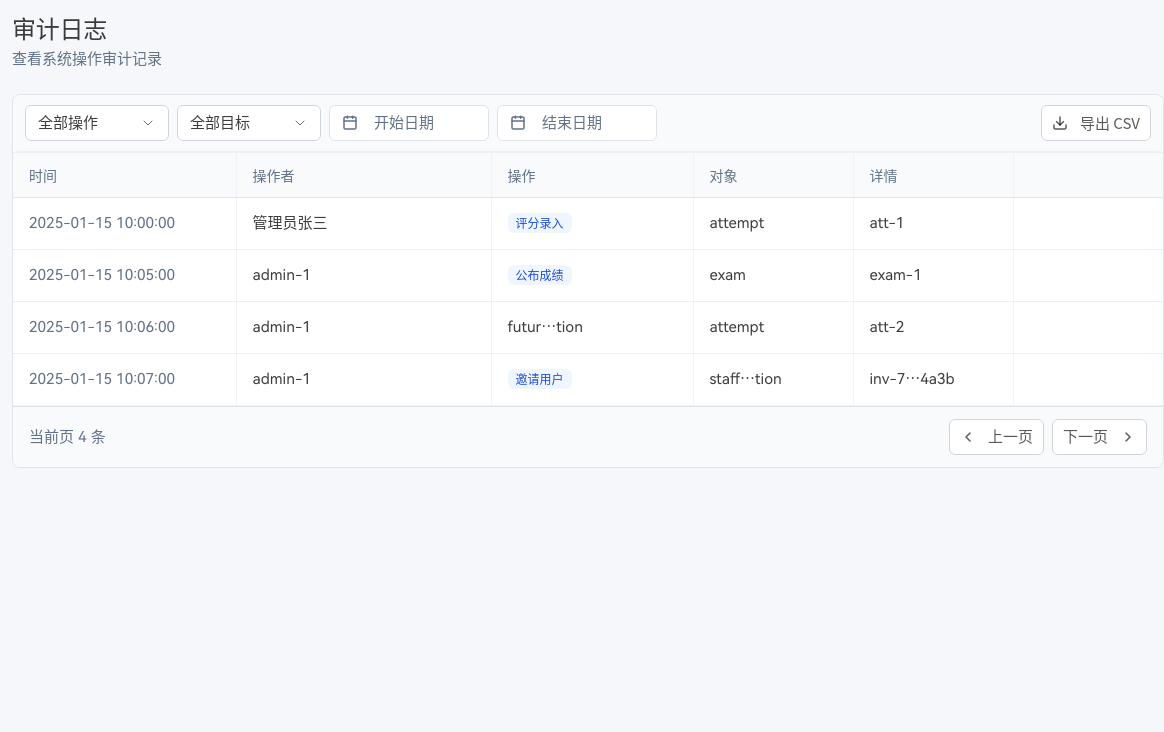
Test: AuditLogPage › expands metadata on row click
Expected: the text "评分录入" is shown, [508,213,572,233]
Step 1. Click the text "评分录入" → [588, 223], box [13,197,1163,249]
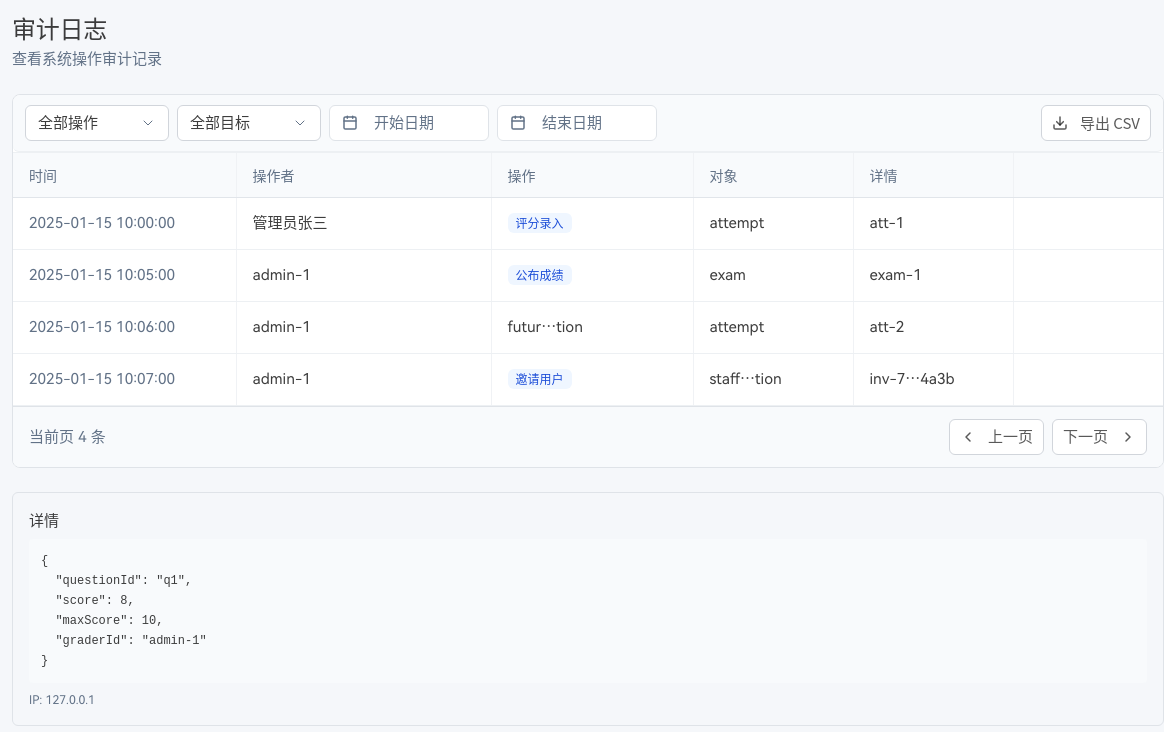
Expected: the text "questionId" is shown, [41,554,207,668]
